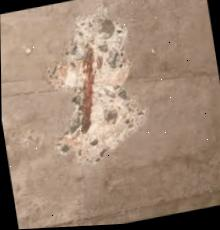exposed_rebar: (81, 44, 94, 133)
spalling: (46, 4, 149, 165)
